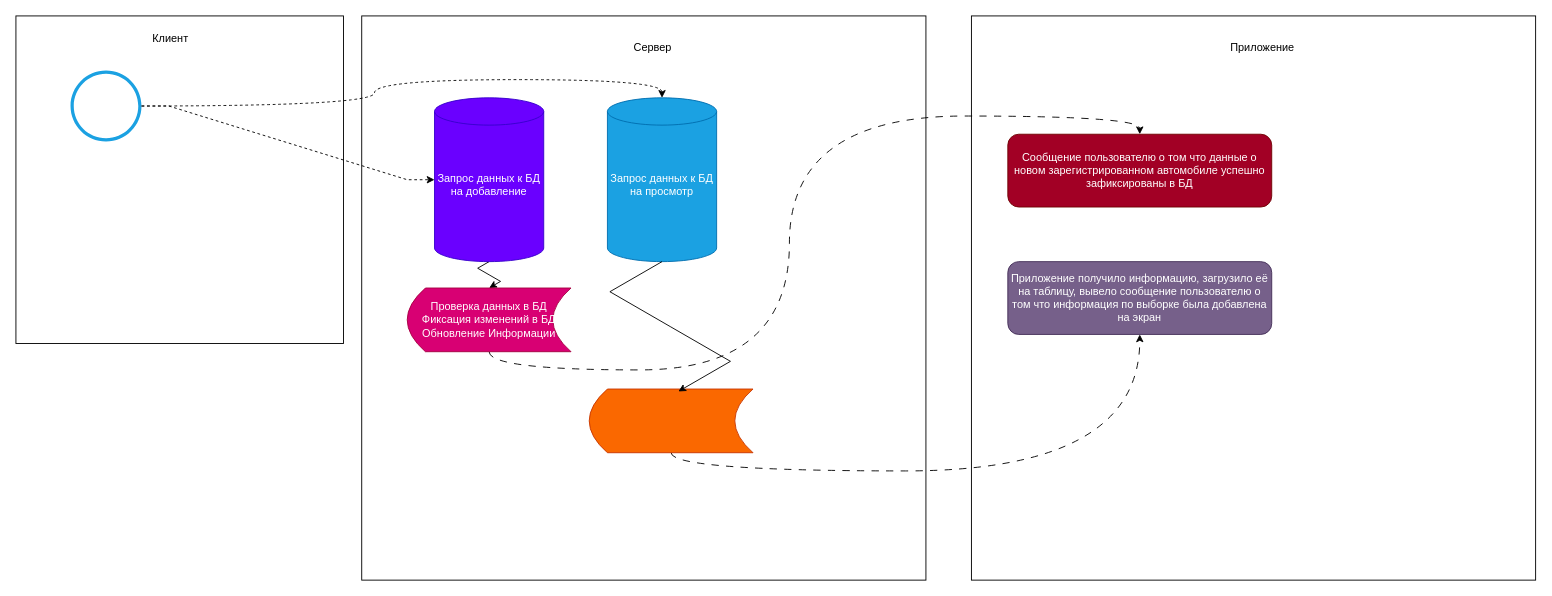
Image size: 1552x596. Some labels were removed from this diagram. Each missing label, with the centre of its shape:
Клиент - пользователь: the point at 106,106
Поиск данных по БД: the point at 670,420
